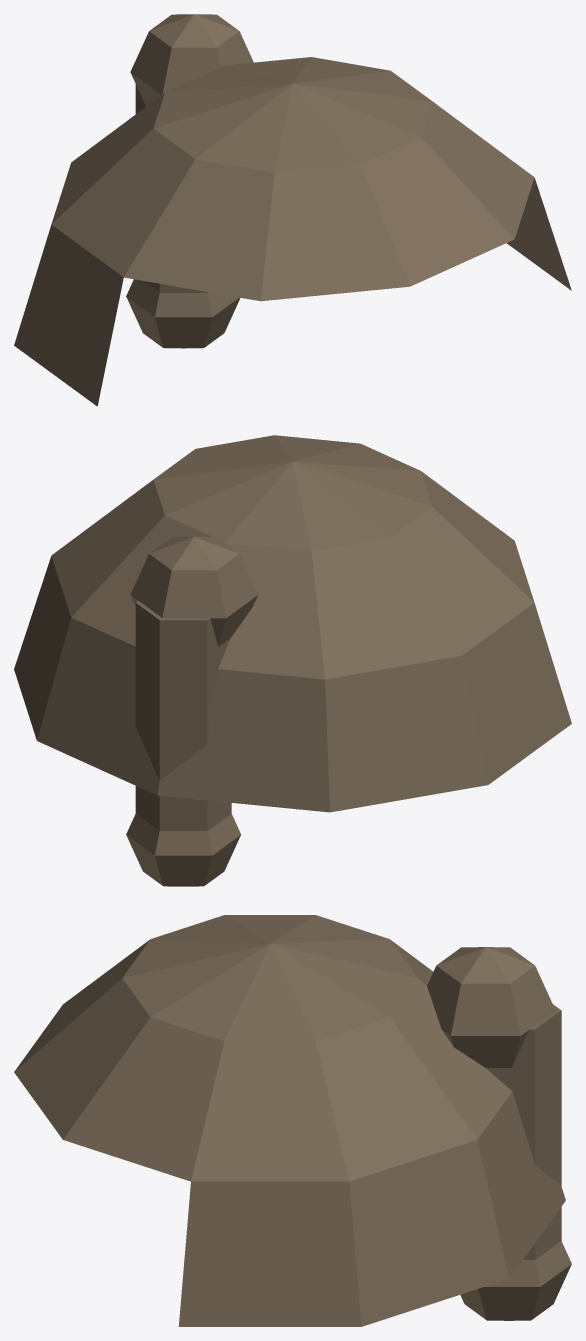
Rendered from ponytail.glb.
The picture shows the model from 3 angles, top to bottom: view 1: azimuth 30°, elevation 25°; view 2: azimuth 150°, elevation 25°; view 3: azimuth 270°, elevation 25°; orthographic projection. The views are drawn at different scales.
Parts seen in each view (by area): view 1: cap, sphere, tip, tail; view 2: cap, tail, sphere, tip; view 3: cap, sphere, tail, tip.
Boxes of the visible parts, left/top/right/bottom form: cap: left=14, top=57, right=571, bottom=406; sphere: left=130, top=14, right=253, bottom=106; tip: left=126, top=279, right=240, bottom=348; tail: left=135, top=84, right=208, bottom=292; cap: left=14, top=435, right=571, bottom=812; tail: left=135, top=600, right=231, bottom=830; sphere: left=130, top=536, right=258, bottom=646; tip: left=126, top=814, right=240, bottom=886; cap: left=14, top=915, right=565, bottom=1326; sphere: left=427, top=947, right=555, bottom=1067; tail: left=486, top=1004, right=561, bottom=1259; tip: left=460, top=1241, right=571, bottom=1320.
Size of the model in its own units: 0.5136 by 0.357 by 0.4788.
